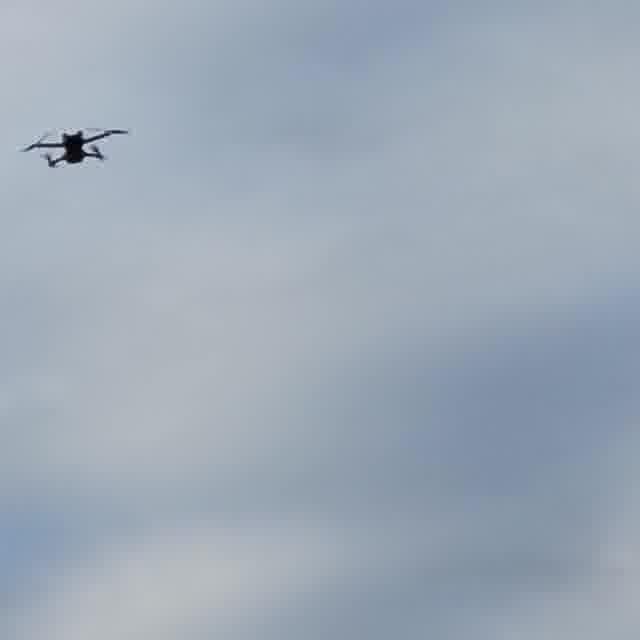Drohne: (23, 129, 128, 167)
